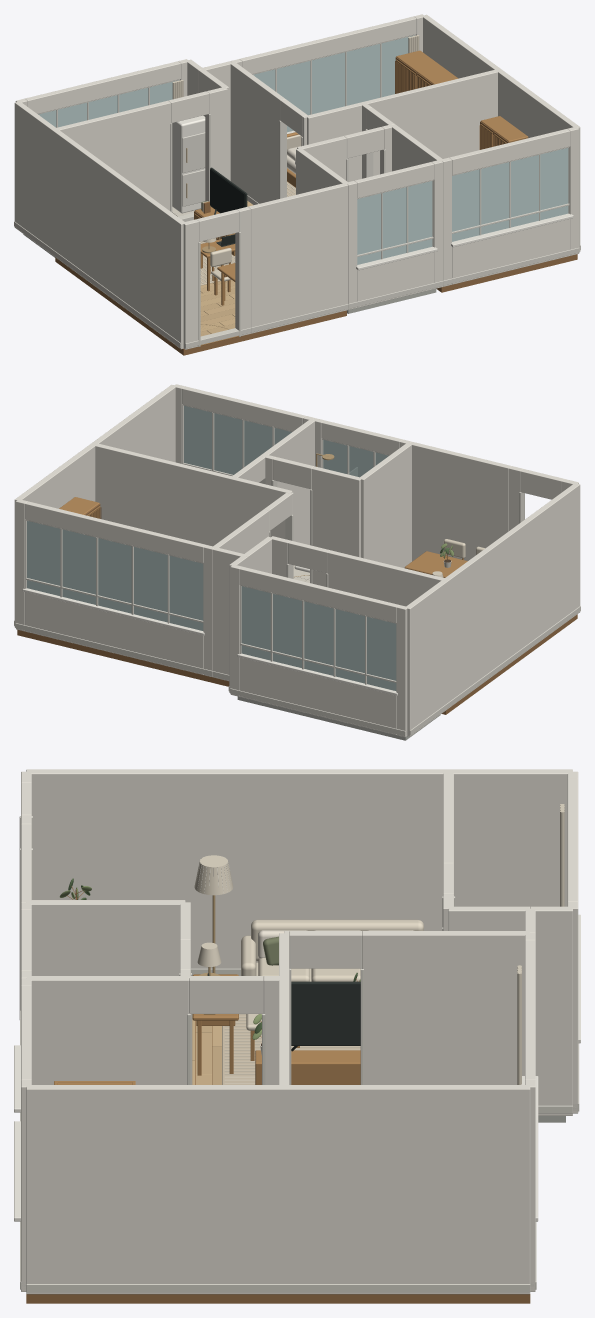
Rendered from new-home-c.glb.
3 renders of one model, top to bottom at view 1: azimuth 30°, elevation 25°; view 2: azimuth 150°, elevation 25°; view 3: azimuth 270°, elevation 25°, orthographic. The views are drawn at different scales.
Parts seen in each view (by area): view 1: Plaster wall (×28), Pale glazing (×4), Skirting board (×5), Floor underlay (×2), Door jamb (×3), Refrigerator door (×2), Carcass (×2), Refrigerator, Stone window sill (×2), Television screen, Oak door panel; view 2: Plaster wall (×29), Pale glazing (×4), Skirting board (×3), Floor underlay (×2), Stone window sill (×2), Solid oak tabletop, Window rail; view 3: Plaster wall (×20), Floor underlay (×2), Television frame, Skirting board, Carcass, Soft back, Bound wool rug, Pleated shade, Stone window sill, Seat cushion.
Boxes of the visible parts, left/top/right/bottom form: Plaster wall (×28): left=14, top=14, right=580, bottom=349; Pale glazing (×4): left=38, top=35, right=568, bottom=264; Skirting board (×5): left=14, top=221, right=579, bottom=348; Floor underlay (×2): left=135, top=254, right=577, bottom=355; Door jamb (×3): left=205, top=114, right=286, bottom=336; Refrigerator door (×2): left=182, top=132, right=205, bottom=206; Carcass (×2): left=396, top=50, right=528, bottom=142; Refrigerator: left=172, top=115, right=205, bottom=213; Stone window sill (×2): left=356, top=213, right=573, bottom=270; Television screen: left=210, top=169, right=244, bottom=212; Oak door panel: left=395, top=59, right=415, bottom=93; Plaster wall (×29): left=14, top=384, right=580, bottom=737; Pale glazing (×4): left=27, top=406, right=396, bottom=690; Skirting board (×3): left=15, top=606, right=580, bottom=735; Floor underlay (×2): left=17, top=629, right=440, bottom=740; Stone window sill (×2): left=22, top=588, right=397, bottom=695; Solid oak tabletop: left=404, top=551, right=467, bottom=577; Window rail: left=26, top=578, right=203, bottom=622; Plaster wall (×20): left=21, top=769, right=578, bottom=1294; Floor underlay (×2): left=26, top=1294, right=530, bottom=1303; Television frame: left=291, top=981, right=360, bottom=1045; Skirting board: left=26, top=1284, right=530, bottom=1292; Carcass: left=255, top=1050, right=360, bottom=1084; Soft back: left=251, top=919, right=423, bottom=961; Bound wool rug: left=222, top=1014, right=360, bottom=1084; Pleated shade: left=194, top=855, right=233, bottom=895; Stone window sill: left=14, top=1121, right=20, bottom=1221; Seat cushion: left=311, top=968, right=360, bottom=981.
Size of the model in its own units: 8.54 by 2.69 by 6.38.
